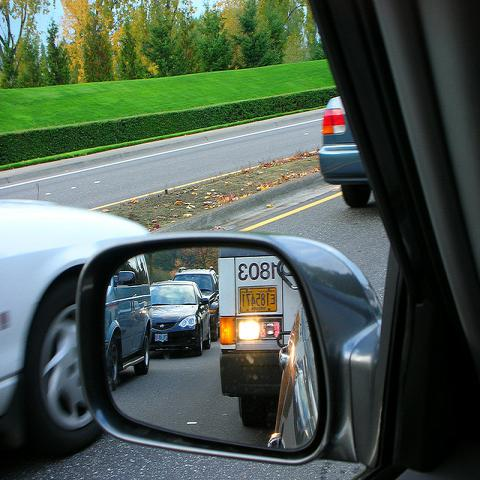bus: (219, 247, 293, 424)
car: (77, 3, 480, 474), (1, 196, 150, 456), (318, 94, 373, 209), (150, 281, 211, 356), (172, 267, 220, 340)
